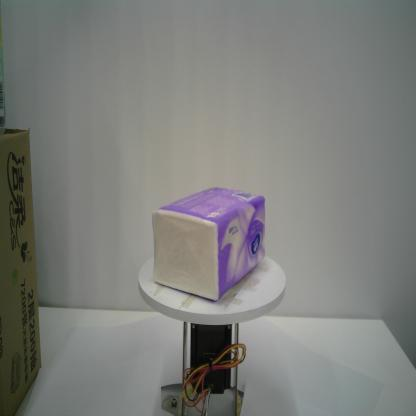Tissue: (150, 183, 268, 305)
